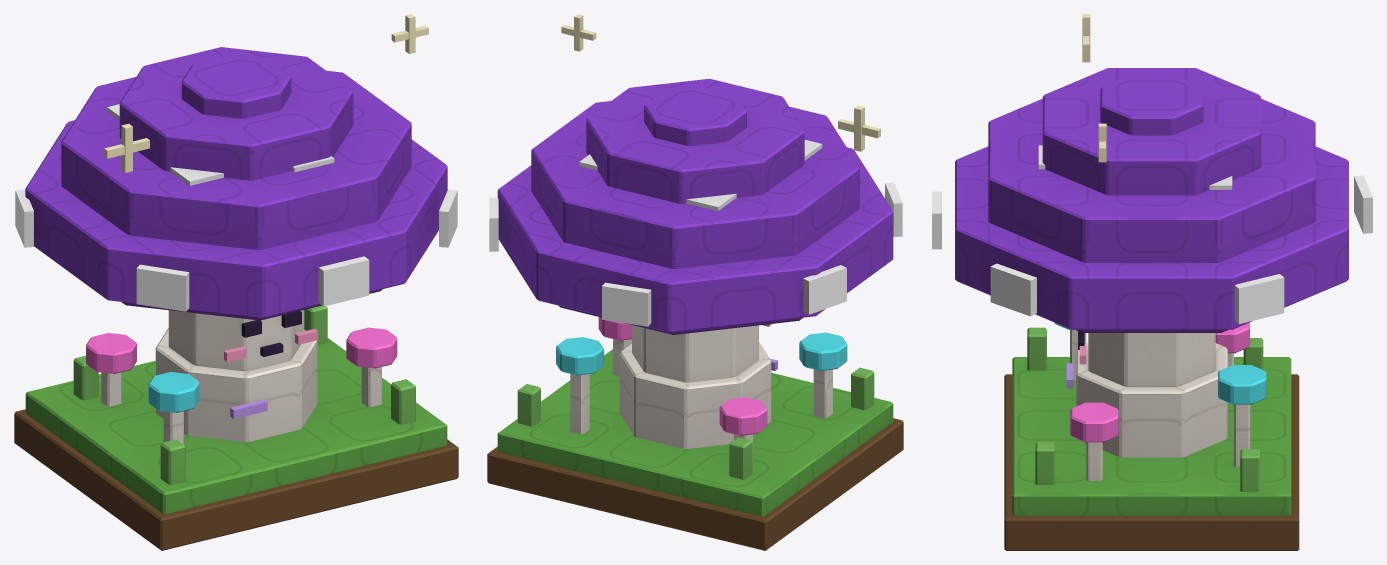
The model's file is MagicMushroom.fbx.
3 renders of one model, left to right at view 1: azimuth 30°, elevation 25°; view 2: azimuth 150°, elevation 25°; view 3: azimuth 270°, elevation 25°, orthographic. The views are drawn at different scales.
Visible parts, largest first — view 1: Art_MagicMushroom; view 2: Art_MagicMushroom; view 3: Art_MagicMushroom.
Boxes of the visible parts, box(x1,y1,x2,y2) form: Art_MagicMushroom: box(14, 14, 458, 550); Art_MagicMushroom: box(487, 14, 903, 550); Art_MagicMushroom: box(932, 14, 1372, 550).
Bounding box in the file's own units: 2.55 × 2.87 × 2.69.
